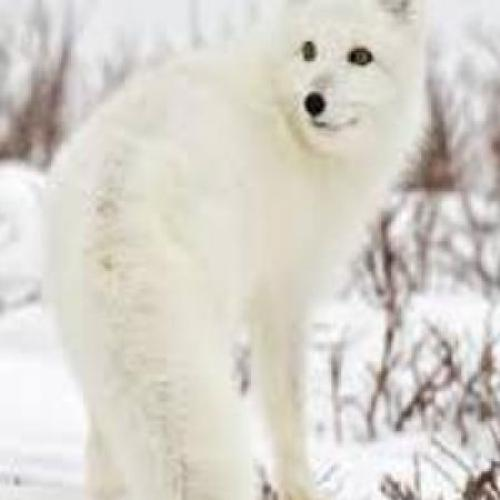arctic_fox-endangered: (40, 0, 429, 500)
